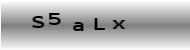5: (47, 12, 60, 26)
L: (92, 17, 105, 31)
S: (30, 14, 44, 29)
a: (71, 20, 84, 32)
x: (111, 18, 125, 31)
